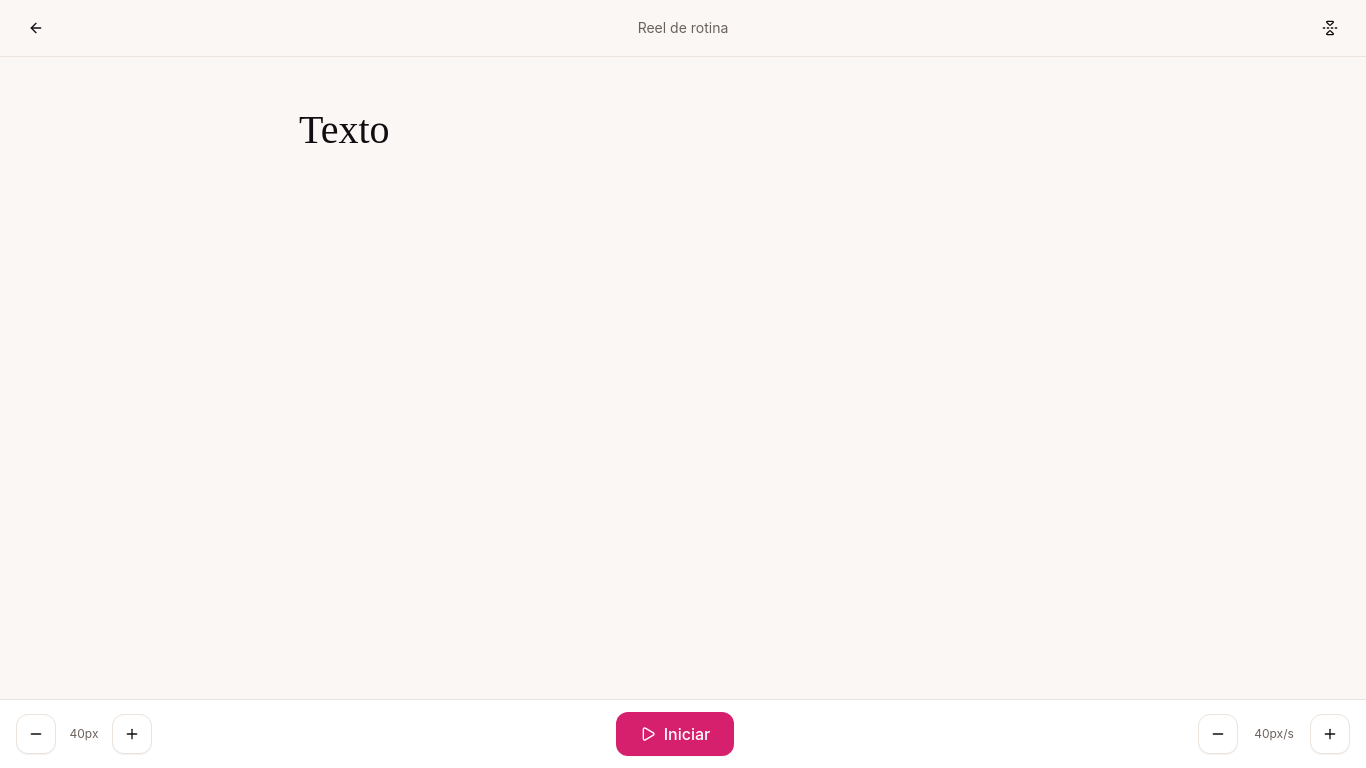
Test: TeleprompterView › alterna entre "Iniciar" e "Pausar" ao clicar no botão de reprodução
The image size is (1366, 768).
What coordinates should you click on to do the following:
click the button "Iniciar"
I would click on:
 (675, 734)
Its box is [616,712,734,756].
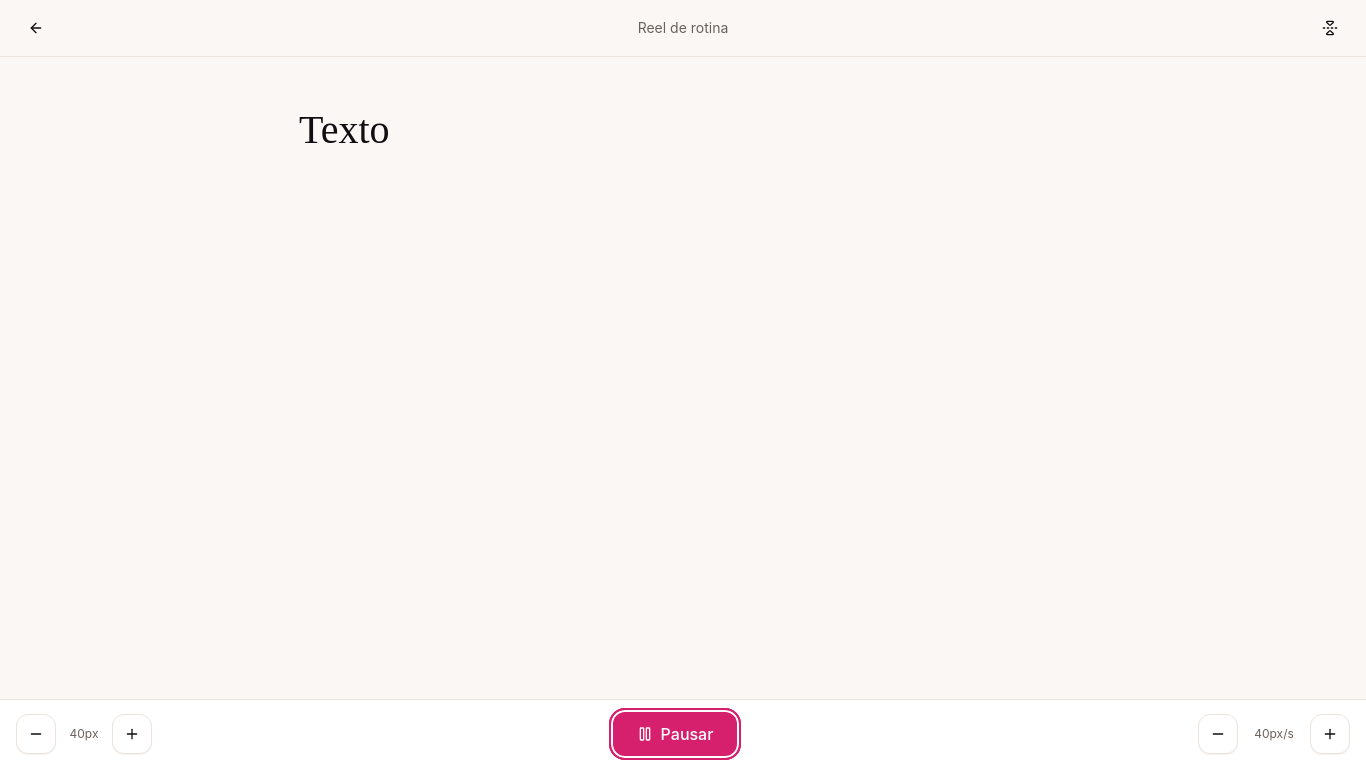
Result: the button "Pausar" is shown
What coordinates should you click on to do the following:
click the button "Pausar"
I would click on:
 (675, 734)
Its box is [613,712,737,756].
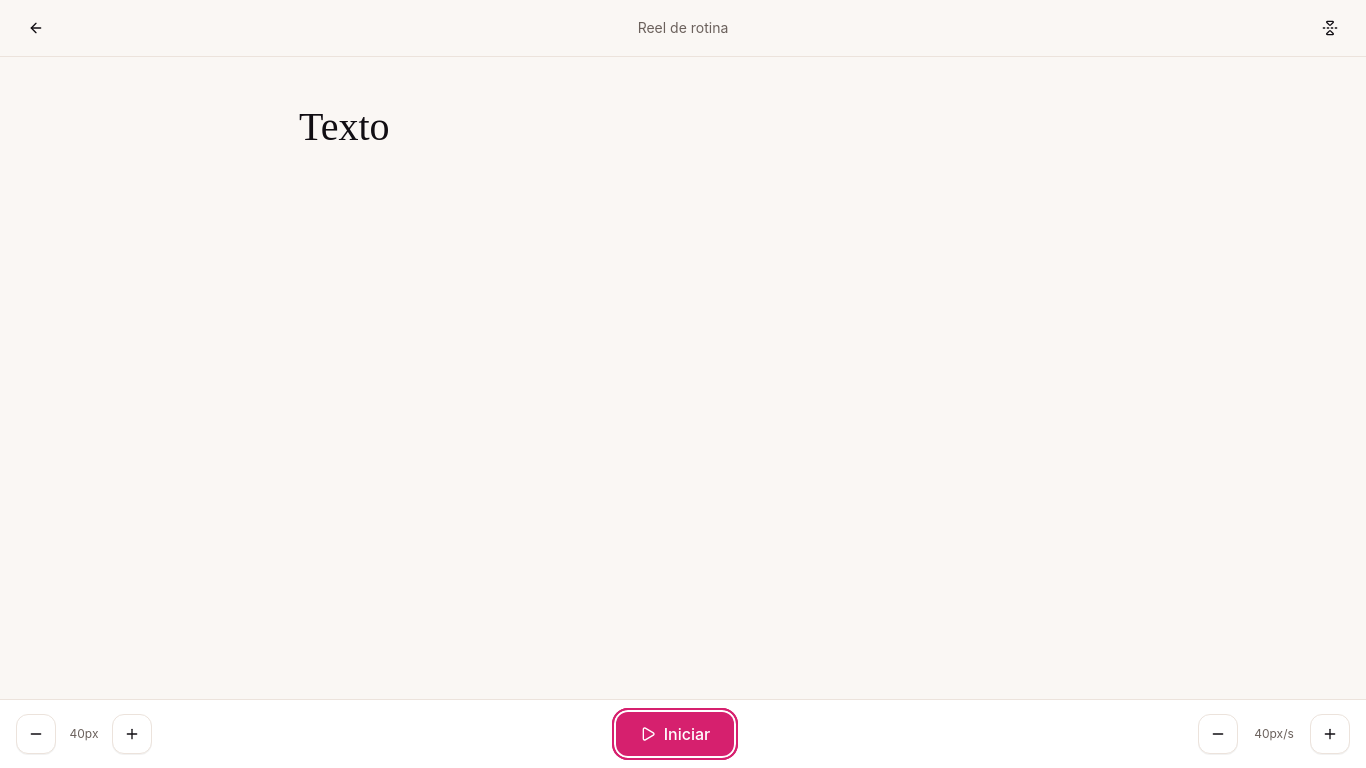
Result: the button "Iniciar" is shown at [616,712,734,756]
